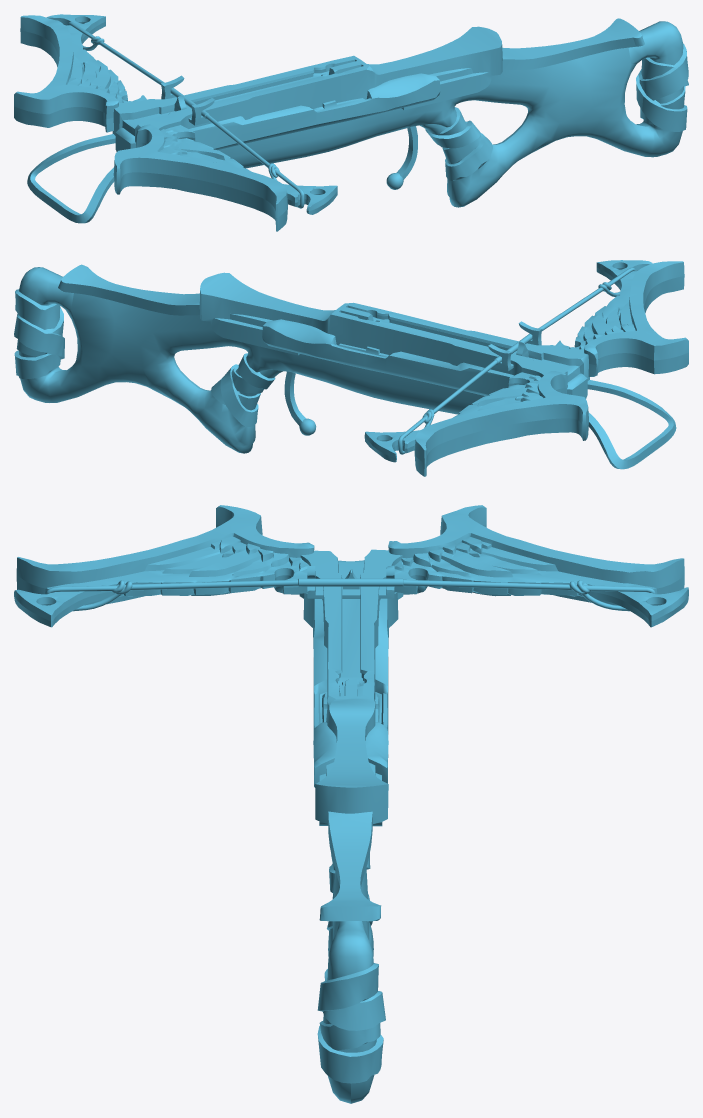
File: SM_Rune_Crossbow_4.fbx
The picture shows the model from 3 angles, top to bottom: view 1: azimuth 30°, elevation 25°; view 2: azimuth 150°, elevation 25°; view 3: azimuth 270°, elevation 25°; orthographic projection. The views are drawn at different scales.
Visible parts, largest first — view 1: SM_Rune_Crossbow_4; view 2: SM_Rune_Crossbow_4; view 3: SM_Rune_Crossbow_4.
Boxes of the visible parts, left/top/right/bottom form: SM_Rune_Crossbow_4: left=14, top=14, right=688, bottom=231; SM_Rune_Crossbow_4: left=14, top=260, right=688, bottom=476; SM_Rune_Crossbow_4: left=14, top=505, right=688, bottom=1103.
Size of the model in its own units: 1.09 by 0.2986 by 0.7758.
